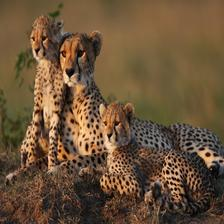Cheetah: (52, 29, 224, 179), (96, 99, 219, 217), (0, 13, 80, 193)
